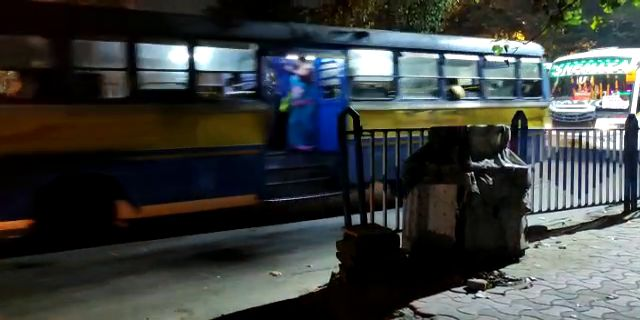Bus: (25, 10, 547, 200), (553, 41, 640, 158)
